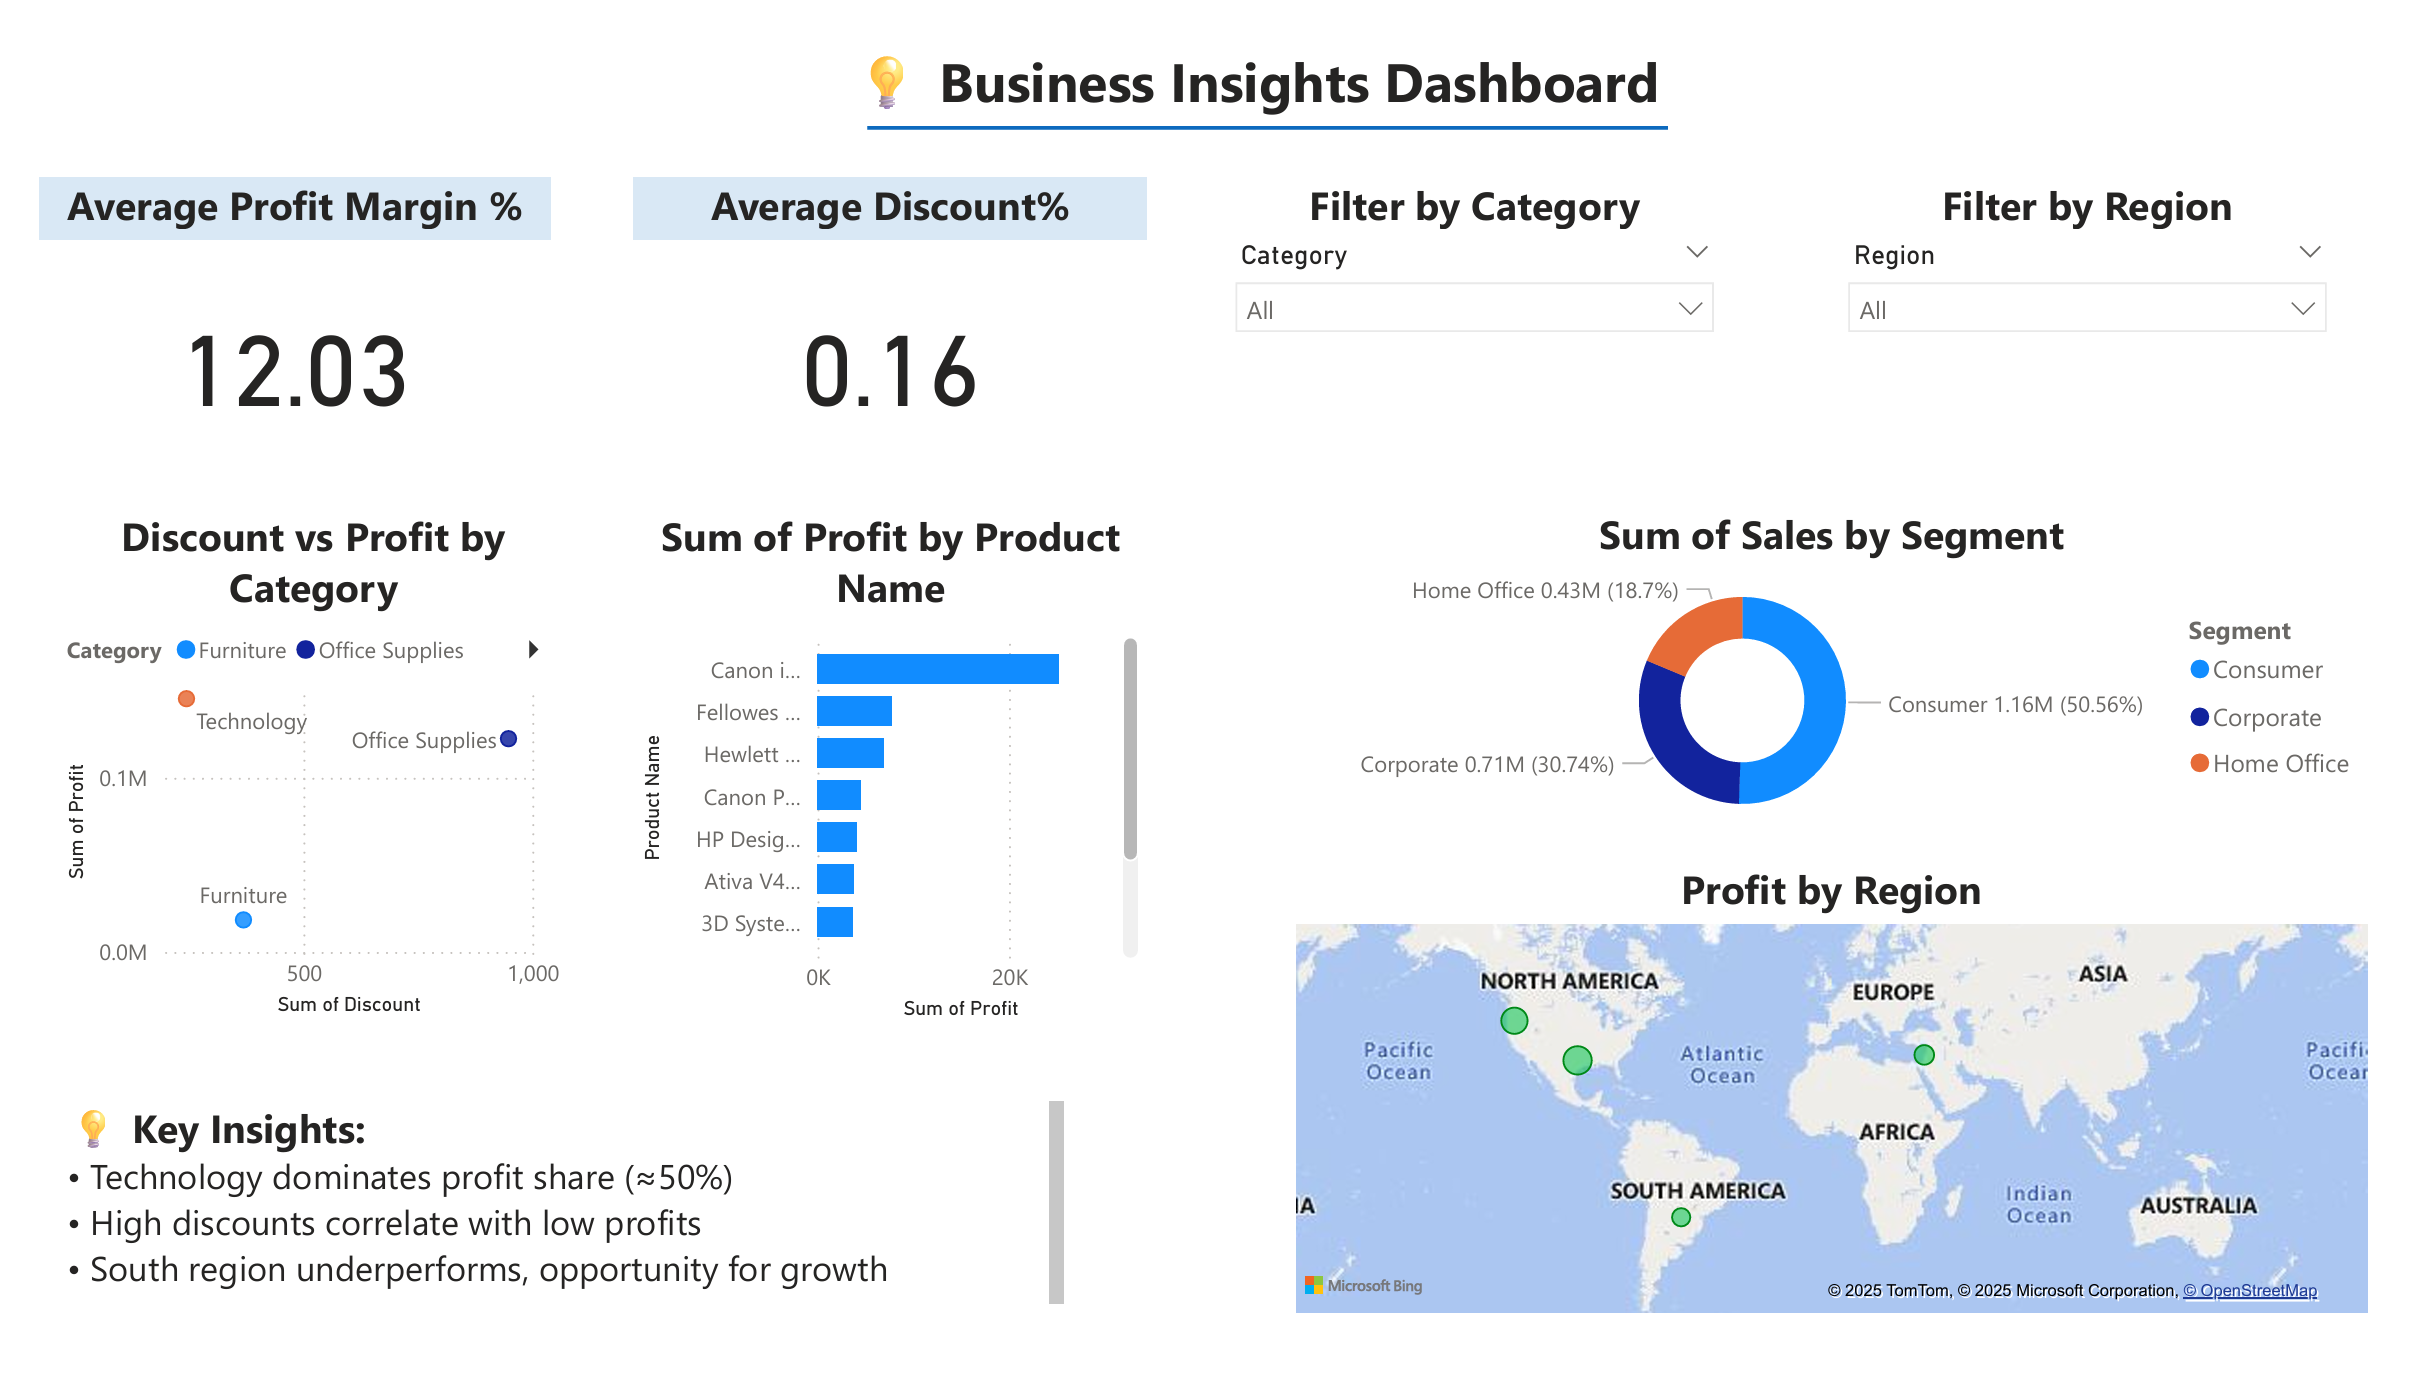

This screenshot's page, from the dashboard's own definition file:
{"tool":"powerbi","page":{"name":"Business Insights Dashboard","canvas":[1280,720],"ordinal":1},"visuals":[{"type":"textbox","box":[10,0,280,280],"z":0},{"type":"textbox","box":[10,290,280,280],"z":1000},{"type":"textbox","box":[10,570,551.7,125],"z":2000},{"type":"textbox","title":"💡 Business Insights Dashboard","box":[423.3,0,475,73.3],"z":3000},{"type":"card","title":"Average Profit Margin %","fields":{"Values":["Avg(superstore_sales_cleaned (1).Profit Margin %)"]},"box":[0,73.3,278.3,166.7],"z":4000},{"type":"slicer","title":"Filter by Category","fields":{"Values":["superstore_sales_cleaned (1).Category"]},"box":[640,73.3,280,166.7],"z":5000},{"type":"card","title":"Average Discount%","fields":{"Values":["Avg(superstore_sales_cleaned (1).Discount)"]},"box":[323.3,73.3,278.3,166.7],"z":6000},{"type":"slicer","title":"Filter by Region","fields":{"Values":["superstore_sales_cleaned (1).Region"]},"box":[973.3,73.3,280,166.7],"z":7000},{"type":"clusteredBarChart","fields":{"Category":["superstore_sales_cleaned (1).Product Name"],"Y":["Sum(superstore_sales_cleaned (1).Profit)"]},"box":[323.3,253.3,278.3,281.7],"z":8000},{"type":"donutChart","fields":{"Category":["superstore_sales_cleaned (1).Segment"],"Y":["Sum(superstore_sales_cleaned (1).Sales)"]},"box":[678.3,251.7,591.7,181.7],"z":9000},{"type":"map","title":"Profit by Region","fields":{"Category":["superstore_sales_cleaned (1).Region"],"Size":["Sum(superstore_sales_cleaned (1).Profit)"]},"box":[678.3,445,591.7,250],"z":10000},{"type":"scatterChart","title":"Discount vs Profit by Category","fields":{"X":["Sum(superstore_sales_cleaned (1).Discount)"],"Y":["Sum(superstore_sales_cleaned (1).Profit)"],"Series":["superstore_sales_cleaned (1).Category"]},"box":[10,253.3,278.3,280],"z":11000},{"type":"shape","box":[450,0,435,91.7],"z":12000}]}

Visuals, with their boxes in screenshot pixels (x1, y1, x2, y2), scaled from the page's 1280x720 canvas onto the 2432x1388 screenshot:
textbox: 19, 0, 551, 540
textbox: 19, 559, 551, 1099
textbox: 19, 1099, 1067, 1340
"💡 Business Insights Dashboard" textbox: 804, 0, 1707, 141
"Average Profit Margin %" card: 0, 141, 529, 463
"Filter by Category" slicer: 1216, 141, 1748, 463
"Average Discount%" card: 614, 141, 1143, 463
"Filter by Region" slicer: 1849, 141, 2381, 463
clusteredBarChart - superstore_sales_cleaned (1).Product Name x Sum(superstore_sales_cleaned (1).Profit): 614, 488, 1143, 1031
donutChart - superstore_sales_cleaned (1).Segment x Sum(superstore_sales_cleaned (1).Sales): 1289, 485, 2413, 835
"Profit by Region" map: 1289, 858, 2413, 1340
"Discount vs Profit by Category" scatterChart: 19, 488, 548, 1028
shape: 855, 0, 1682, 177
